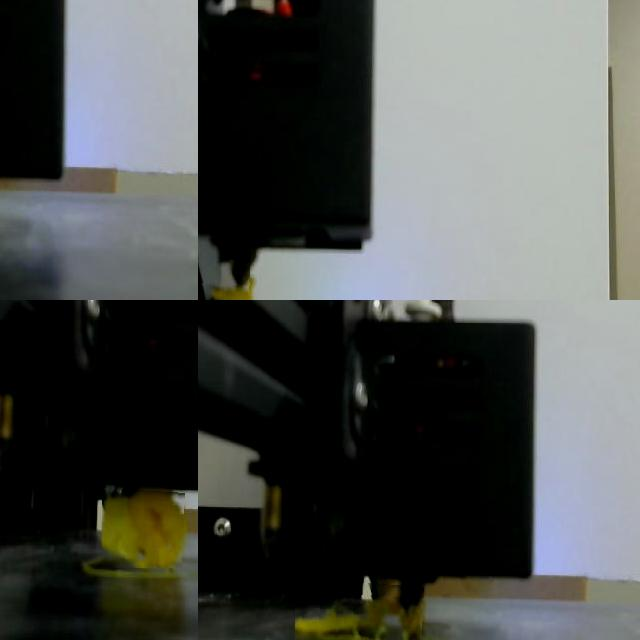spaghetti: (295, 584, 423, 640), (102, 490, 185, 568)
